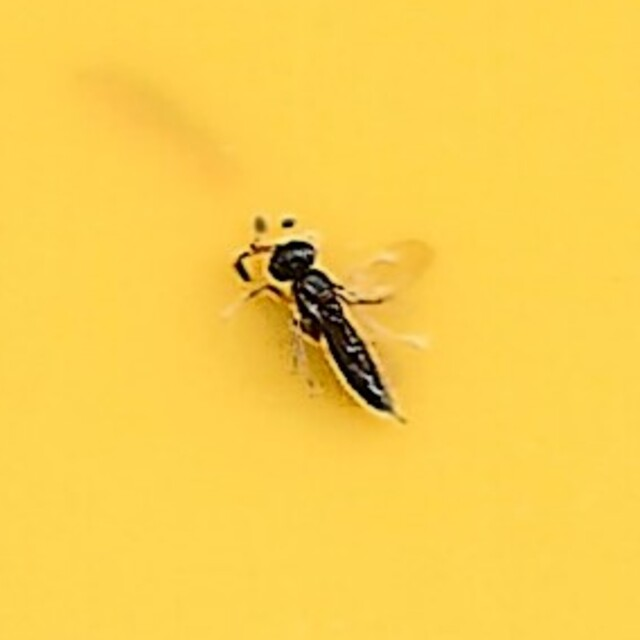Hymenoptera: (225, 208, 415, 432)
